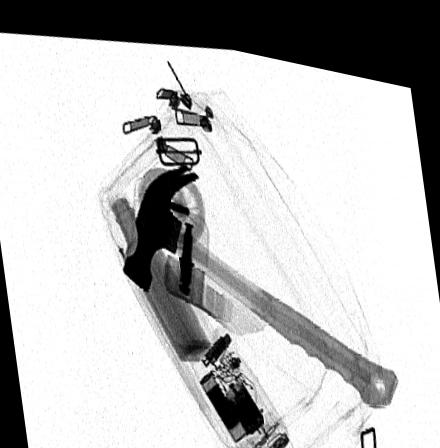Hammer: (121, 154, 399, 396)
